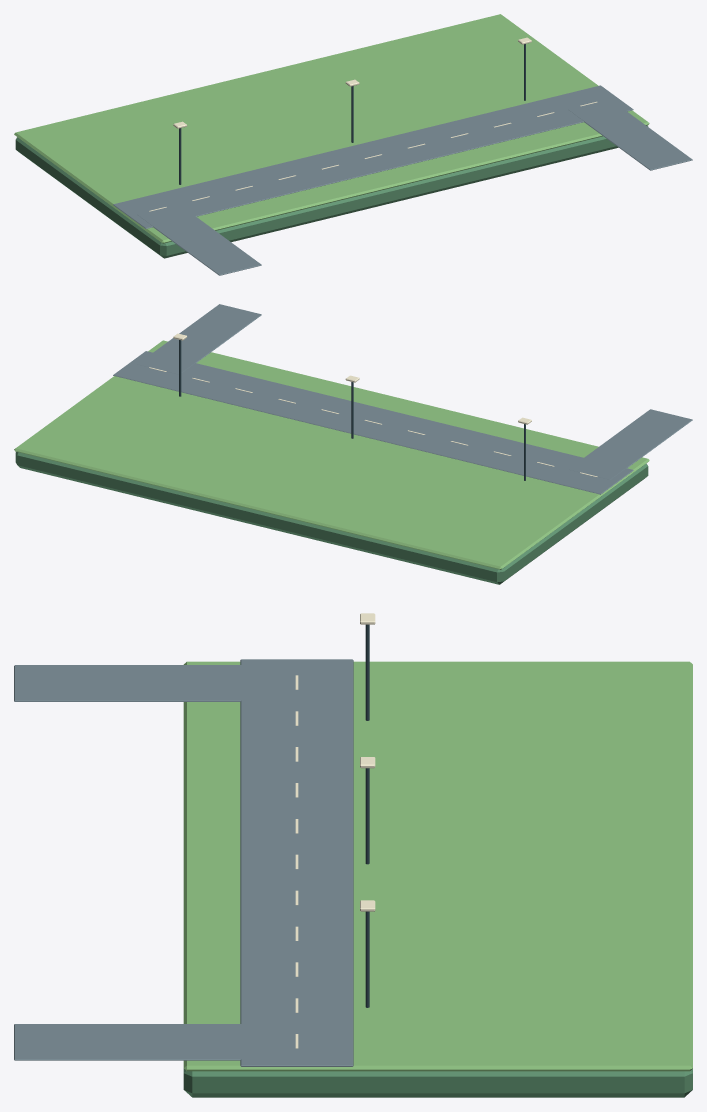
Rendered from civic-ground.glb.
3 views of the same model, one above another, from view 1: azimuth 30°, elevation 25°; view 2: azimuth 150°, elevation 25°; view 3: azimuth 270°, elevation 25° (orthographic). The views are drawn at different scales.
Parts seen in each view (by area): view 1: CivicGround; view 2: CivicGround; view 3: CivicGround.
Part boxes in pixels (<box>): CivicGround: <box>14,14,692,275</box>; CivicGround: <box>14,304,692,584</box>; CivicGround: <box>14,613,692,1097</box>.
Size of the model in its own units: 34 by 5.35 by 24.
